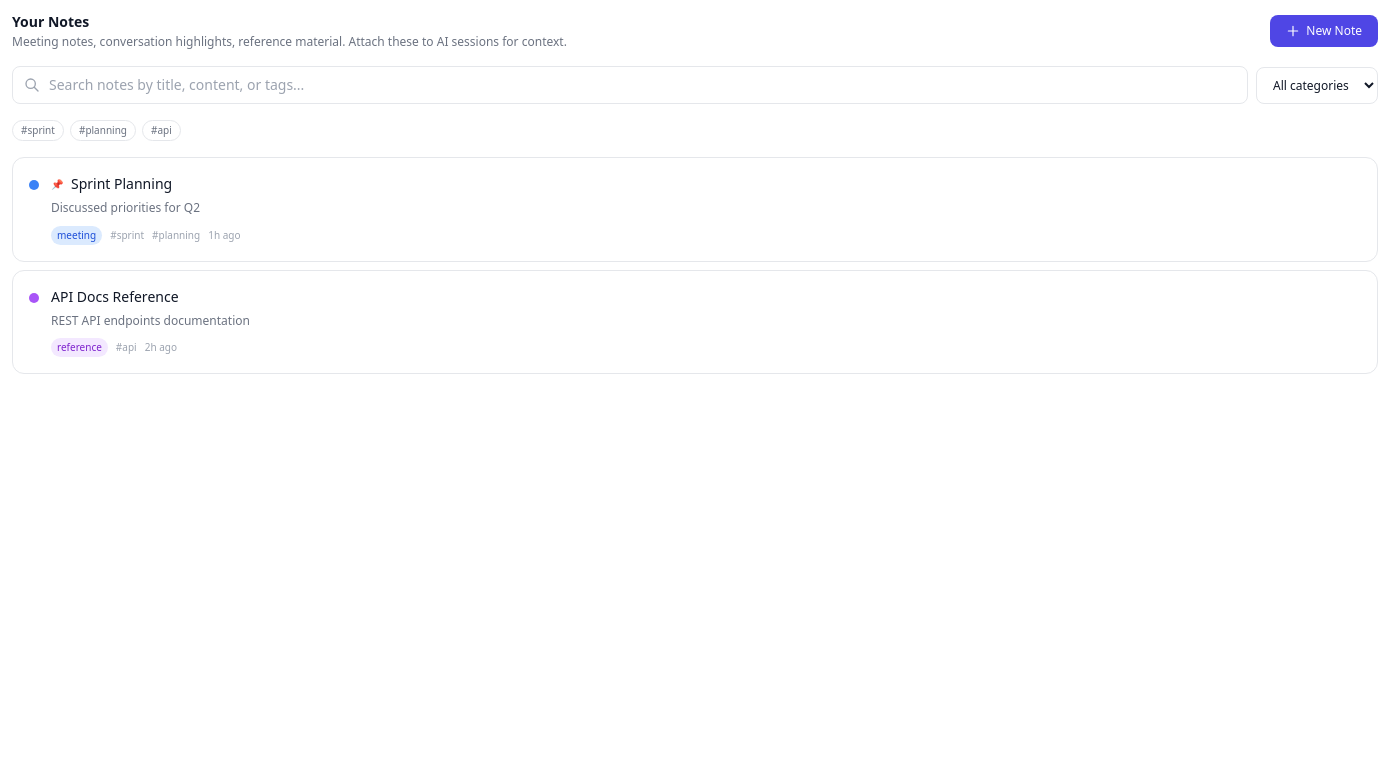
Test: NotesManager › opens edit form when a note card is clicked
This screenshot has width=1390, height=780.
Click the heading "Sprint Planning" at (122, 184), box x1=71 y1=174 x2=172 y2=194
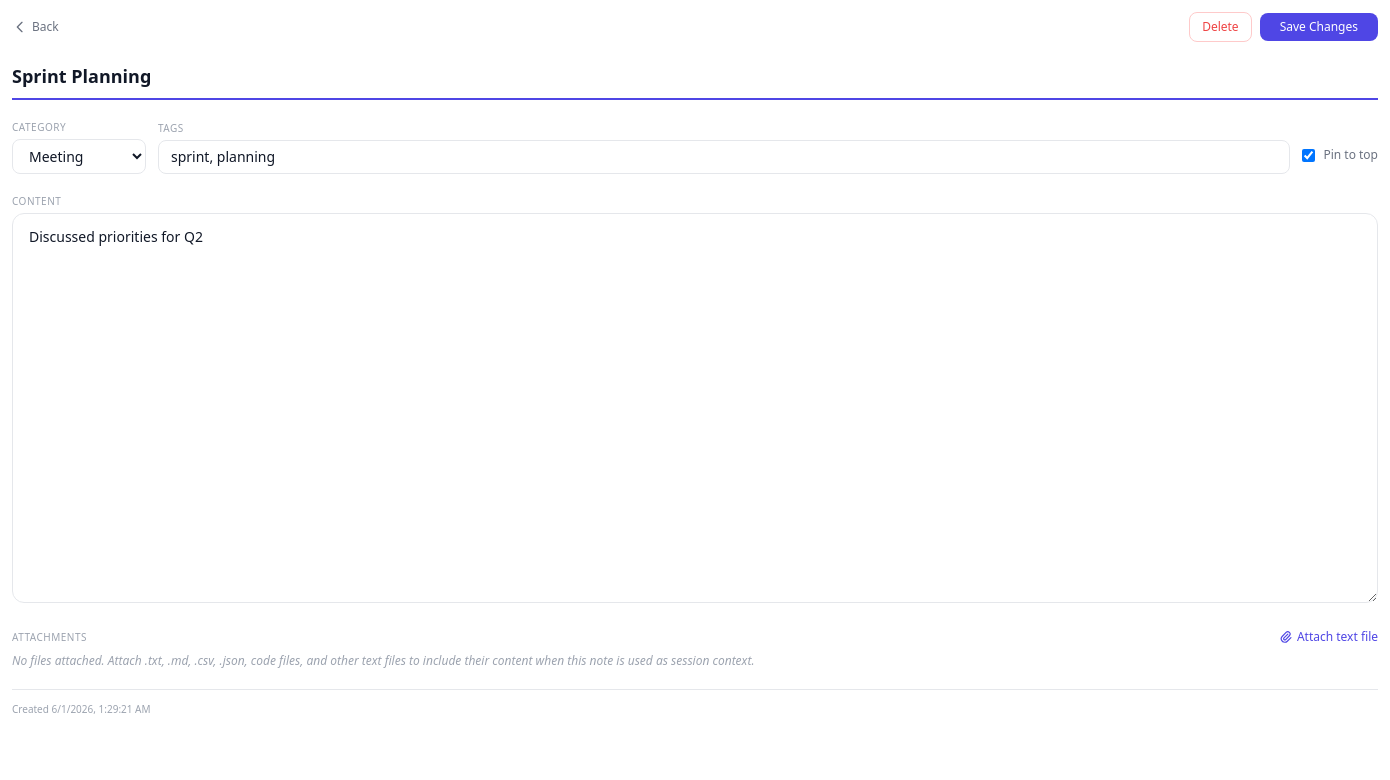
Expected: the 1st field showing "Sprint Planning" is shown, x1=12 y1=62 x2=1378 y2=100
Expected: the button "Save Changes" is shown, x1=1260 y1=13 x2=1378 y2=41
